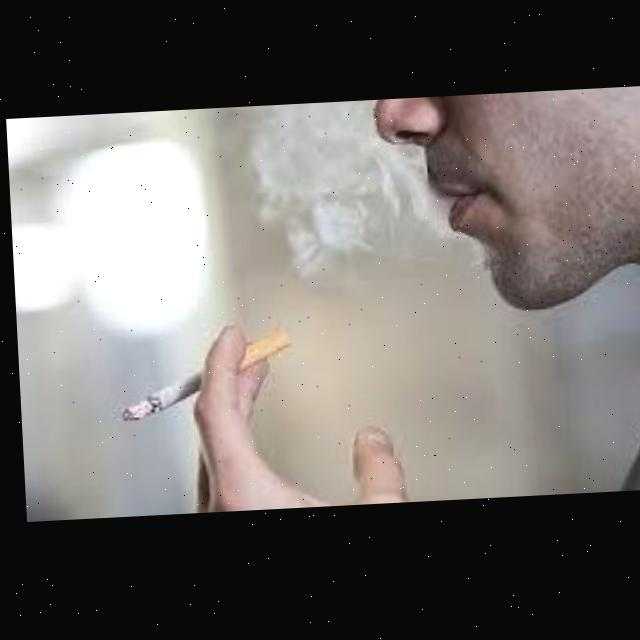cigarette: (115, 329, 290, 421)
